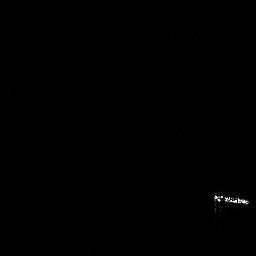ship: (213, 194, 248, 205)
